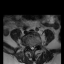CCS_stenosis: (31, 43, 33, 51)
LFS_stenosis: (35, 42, 37, 48)
LLS_normal: (33, 43, 35, 50)
RFS_stenosis: (27, 43, 30, 48)
RLS_stenosis: (29, 43, 31, 49)
